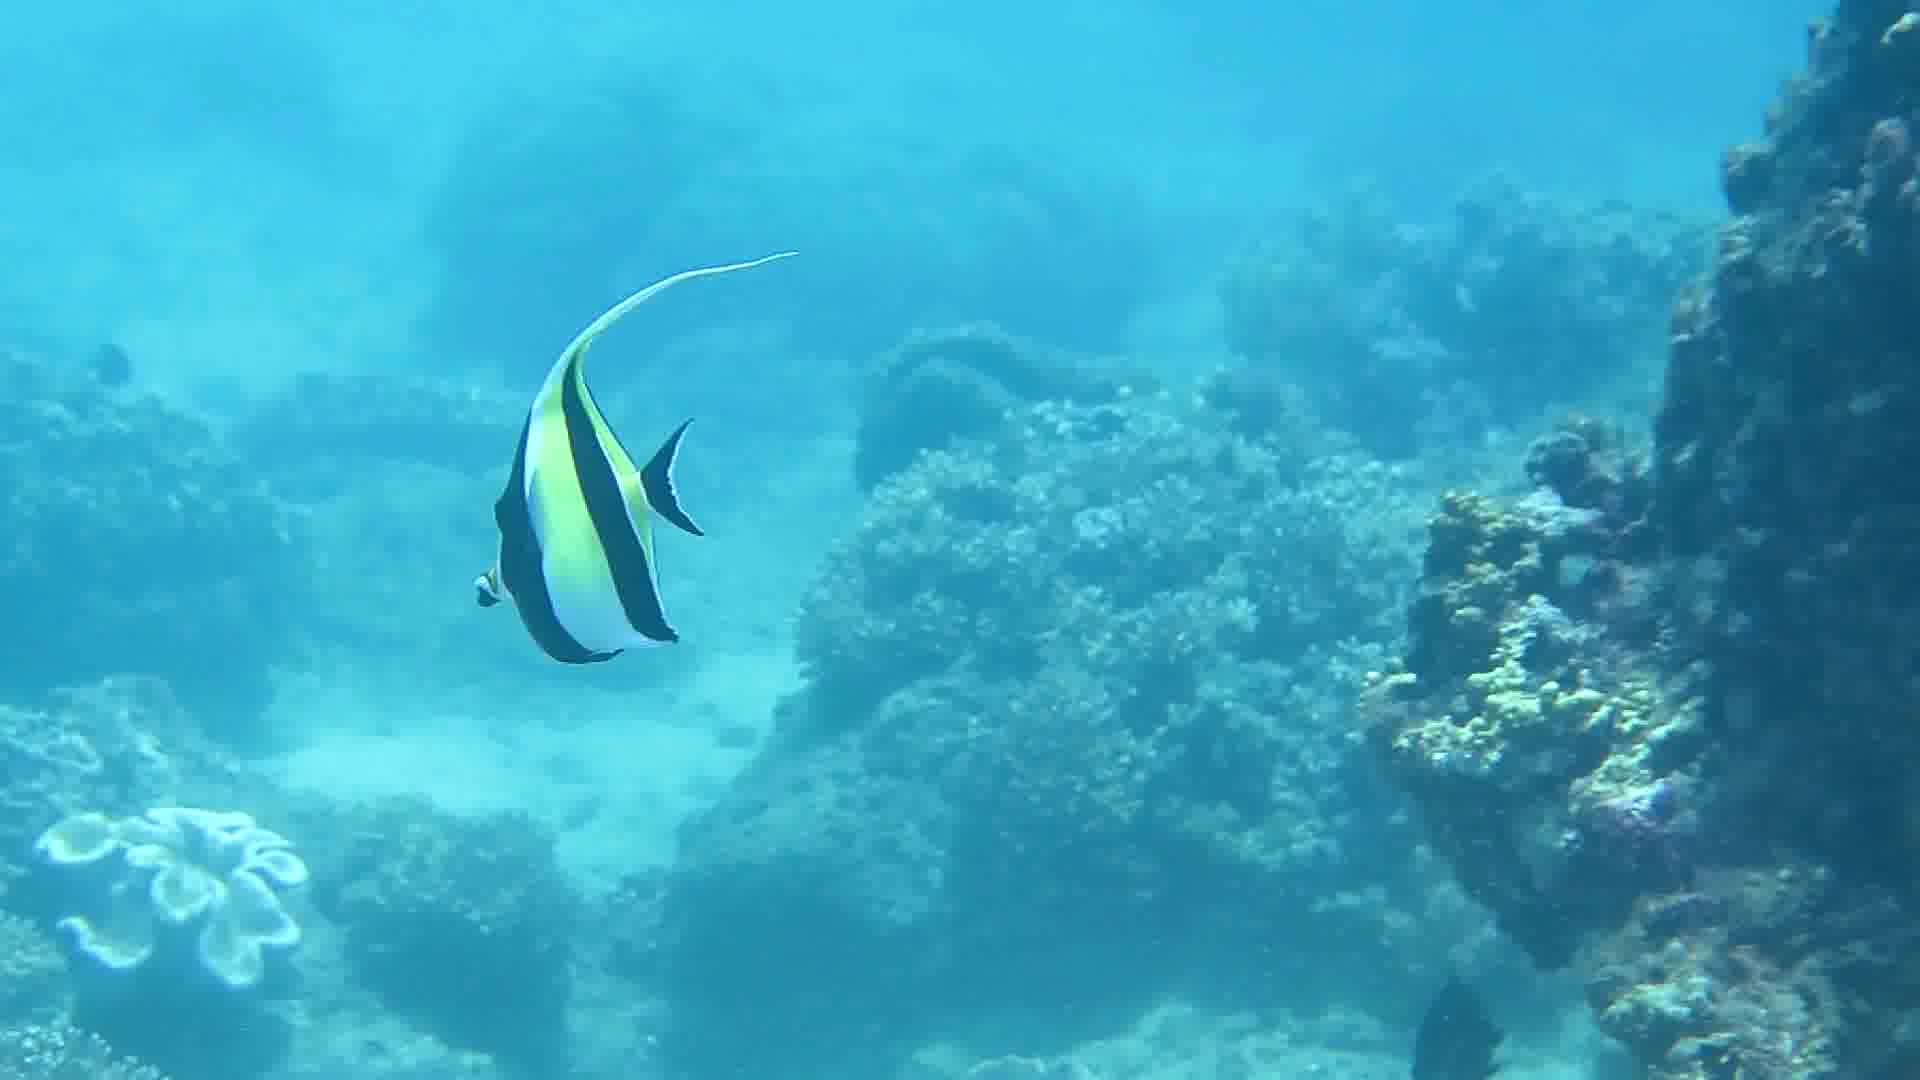Zanclus cornutus: (410, 299, 767, 719)
